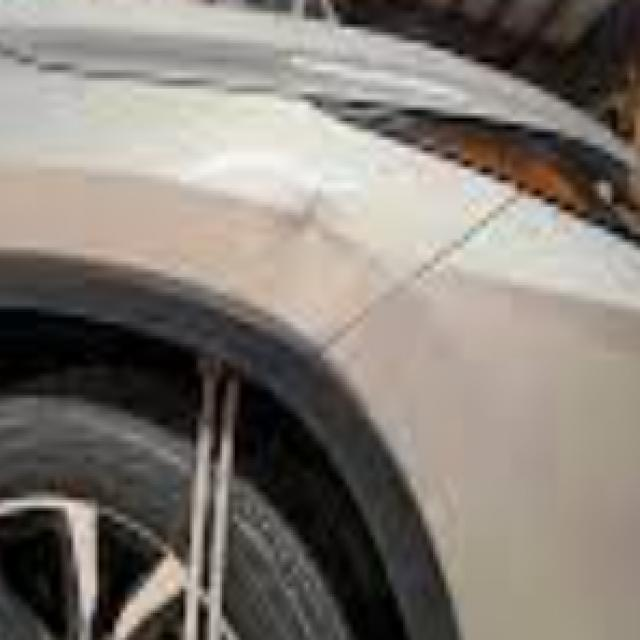dents: (264, 162, 370, 332)
